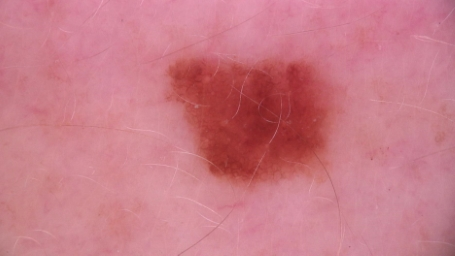melanoma: (167, 58, 330, 181)
